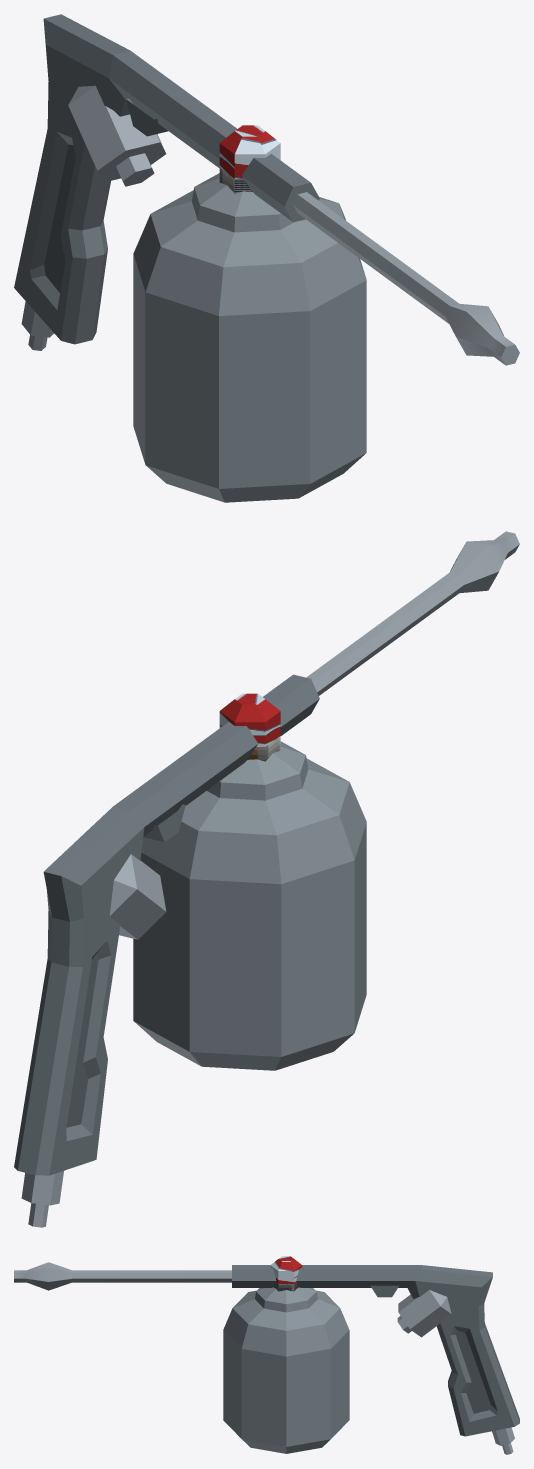
File: SM_Prop_AirSprayer_01.fbx
The picture shows the model from 3 angles, top to bottom: view 1: azimuth 30°, elevation 25°; view 2: azimuth 150°, elevation 25°; view 3: azimuth 270°, elevation 25°; orthographic projection. The views are drawn at different scales.
Visible parts, largest first — view 1: SM_Prop_AirSprayer_01; view 2: SM_Prop_AirSprayer_01; view 3: SM_Prop_AirSprayer_01.
Boxes of the visible parts, bbox=[...] form: SM_Prop_AirSprayer_01: bbox=[14, 14, 519, 502]; SM_Prop_AirSprayer_01: bbox=[14, 531, 519, 1227]; SM_Prop_AirSprayer_01: bbox=[14, 1256, 519, 1454].
Size of the model in its own units: 14.91 by 25.39 by 59.74.
